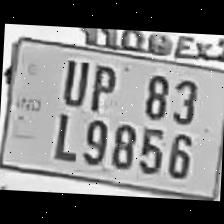3: (168, 70, 198, 125)
5: (135, 122, 165, 176)
6: (162, 128, 194, 179)
8: (138, 64, 170, 120), (105, 118, 136, 171)
9: (78, 112, 108, 164)
L: (47, 102, 81, 161)
P: (84, 55, 118, 112)
U: (54, 49, 88, 109)
